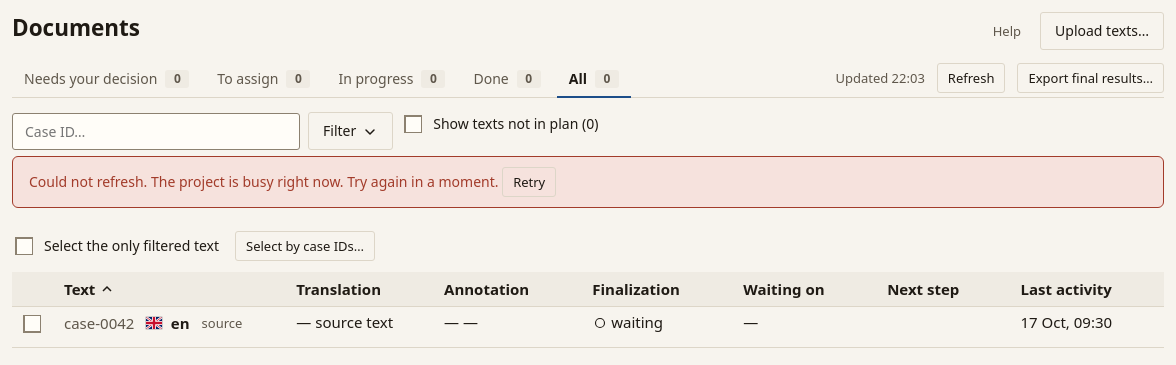
Test: names a busy project on a failed refetch and recovers with Retry (#217)
The image size is (1176, 365).
Expected: the table named "Documents" is shown, [12, 272, 1164, 348]
Expected: the message shows "The project is busy right now.", [151, 172, 498, 191]
Click the button "Retry".
click(529, 182)  # box [502, 167, 556, 197]
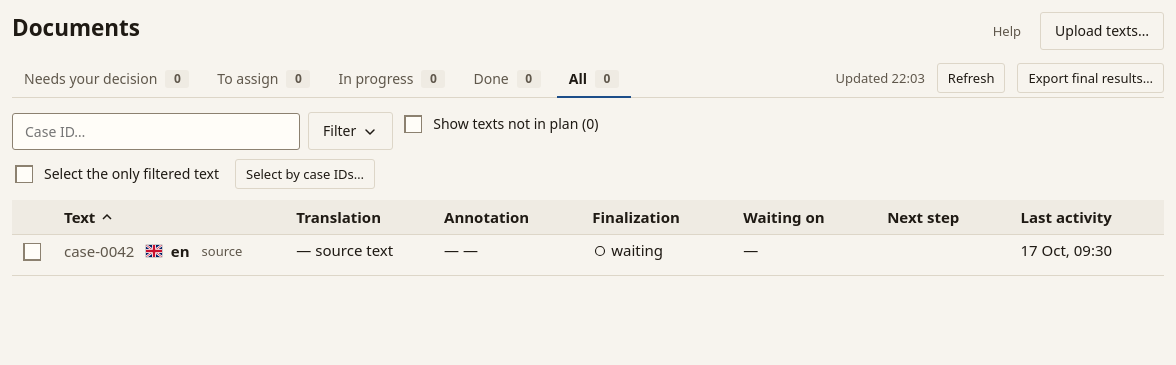
Expected: the message "Could not refresh. The project is busy right now. Try again in a moment. Retry" is gone
